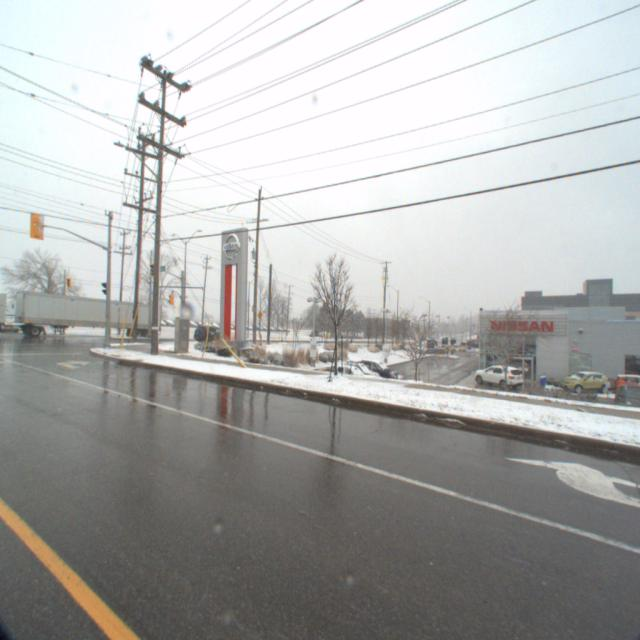Car: (186, 327, 228, 348)
